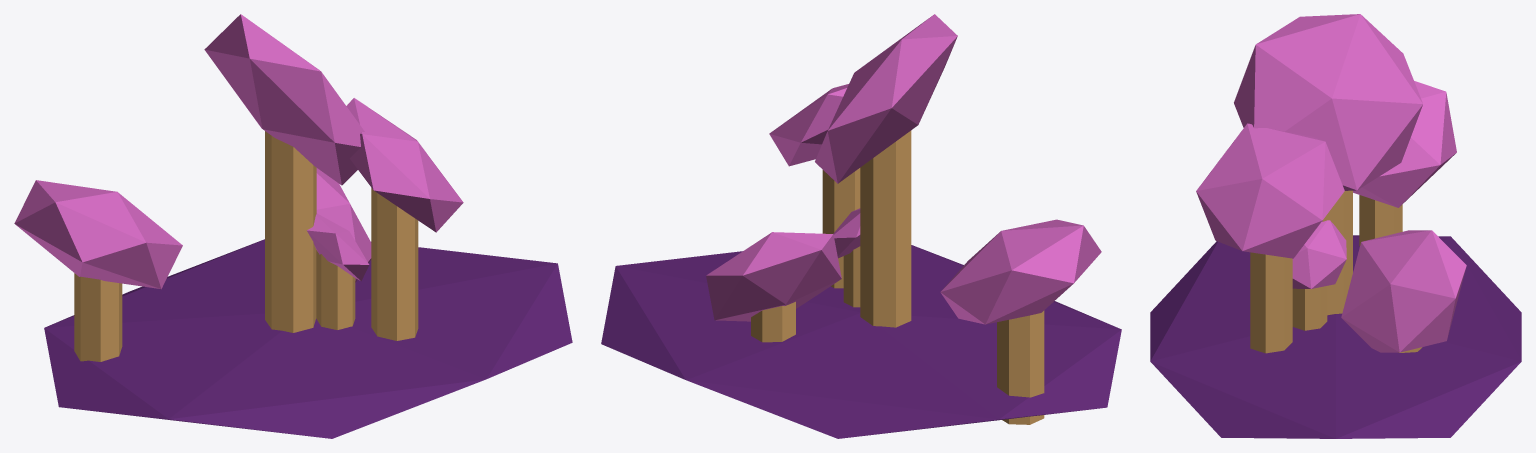
The model's file is mushroom_cluster_d.glb.
3 renders of one model, left to right at view 1: azimuth 30°, elevation 25°; view 2: azimuth 150°, elevation 25°; view 3: azimuth 270°, elevation 25°, orthographic. The views are drawn at different scales.
Parts seen in each view (by area): view 1: Mire_Growth.003, Cap_4.002, Cap_2.003, Stem_4.008, Cap_5.002, Stem_5.008, Stem_2.009, Stem_1.009, Cap_1.003, Cap_3.003; view 2: Mire_Growth.003, Cap_4.002, Cap_2.003, Stem_4.008, Cap_3.003, Stem_2.009, Cap_5.002, Stem_5.008, Stem_3.009, Stem_1.009, Cap_1.003; view 3: Mire_Growth.003, Cap_4.002, Cap_5.002, Cap_3.003, Cap_2.003, Stem_5.008, Cap_1.003, Stem_4.008, Stem_2.009, Stem_1.009.
Boxes of the visible parts, x1,y1,x2,y2 form: Mire_Growth.003: (44, 239, 572, 438); Cap_4.002: (204, 14, 364, 185); Cap_2.003: (14, 180, 182, 289); Stem_4.008: (265, 131, 316, 332); Cap_5.002: (346, 98, 463, 232); Stem_5.008: (371, 188, 418, 340); Stem_2.009: (74, 273, 122, 361); Stem_1.009: (316, 250, 355, 329); Cap_1.003: (307, 213, 369, 281); Cap_3.003: (316, 168, 371, 282); Mire_Growth.003: (601, 245, 1121, 438); Cap_4.002: (815, 14, 957, 183); Cap_2.003: (940, 219, 1101, 324); Stem_4.008: (860, 130, 911, 327); Cap_3.003: (706, 232, 841, 321); Stem_2.009: (997, 310, 1044, 424); Cap_5.002: (769, 84, 848, 166); Stem_5.008: (822, 168, 860, 288); Stem_3.009: (751, 301, 795, 342); Stem_1.009: (843, 246, 860, 307); Cap_1.003: (833, 208, 860, 258); Mire_Growth.003: (1150, 235, 1521, 438); Cap_4.002: (1234, 14, 1422, 190); Cap_5.002: (1196, 123, 1344, 258); Cap_3.003: (1341, 230, 1466, 352); Cap_2.003: (1353, 81, 1456, 207); Stem_5.008: (1250, 252, 1292, 353); Cap_1.003: (1292, 220, 1346, 288); Stem_4.008: (1322, 190, 1352, 315); Stem_2.009: (1359, 195, 1402, 246); Stem_1.009: (1292, 286, 1327, 330).
Size of the model in its own units: 1.72 by 1.14 by 1.19.
